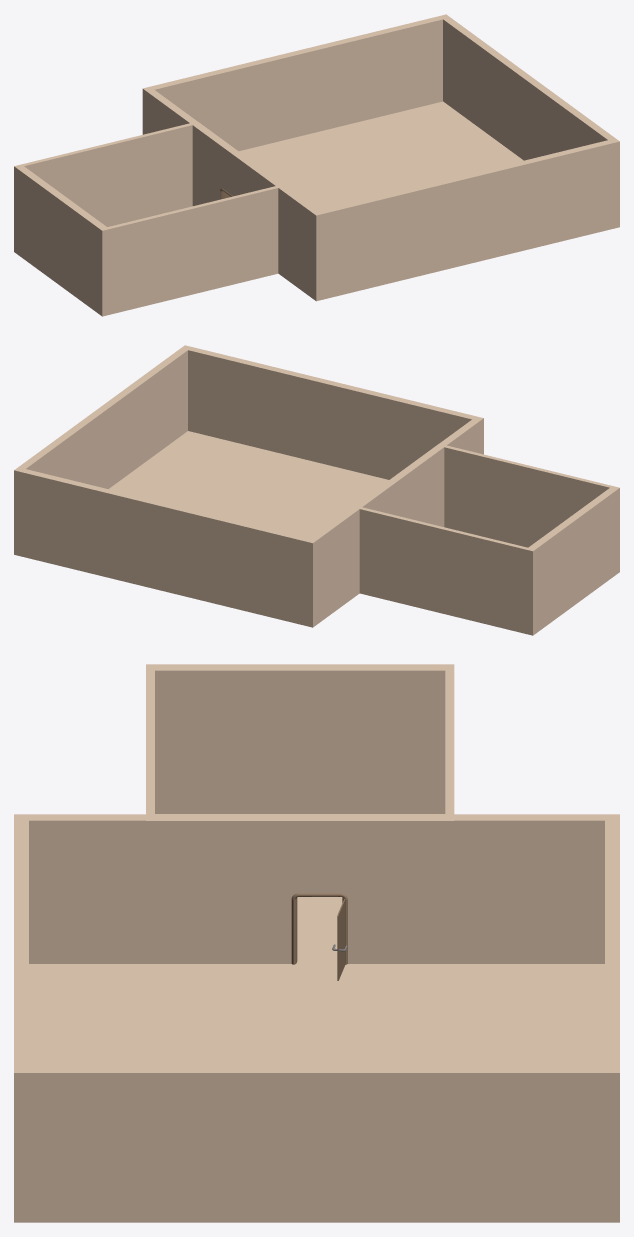
The model's file is ruangan .fbx.
3 views of the same model, one above another, from view 1: azimuth 30°, elevation 25°; view 2: azimuth 150°, elevation 25°; view 3: azimuth 270°, elevation 25° (orthographic). The views are drawn at different scales.
Visible parts, largest first — view 1: Cube.030, Cube.007; view 2: Cube.030, Cube.007; view 3: Cube.030, Cube.007, Cylinder.006.
Part boxes in pixels (left/top/right/bottom): Cube.030: left=142, top=14, right=619, bottom=301; Cube.007: left=14, top=123, right=285, bottom=316; Cube.030: left=14, top=345, right=483, bottom=627; Cube.007: left=352, top=443, right=619, bottom=635; Cube.030: left=14, top=814, right=619, bottom=1222; Cube.007: left=146, top=664, right=454, bottom=963; Cylinder.006: left=291, top=893, right=347, bottom=964.
Size of the model in its own units: 13063 by 2231 by 8189.
